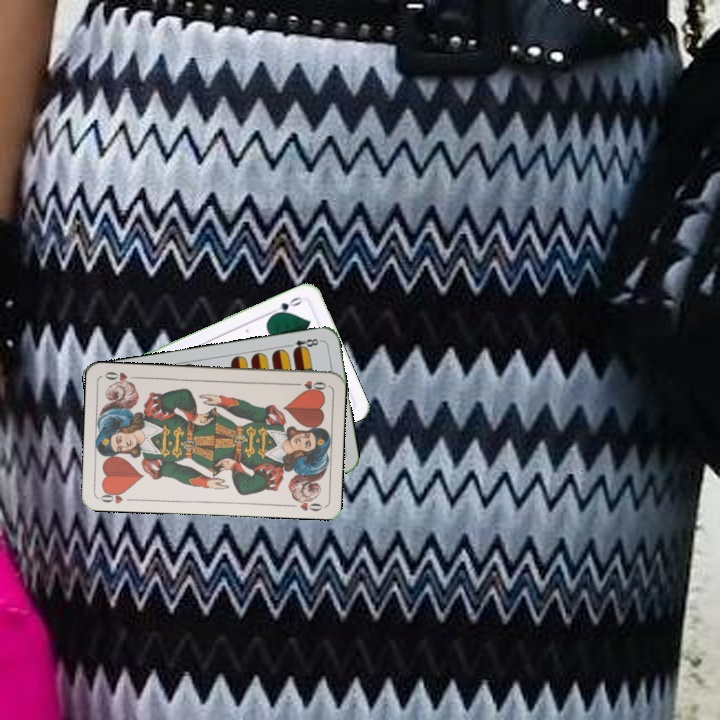E8: (283, 334, 324, 354)
GO: (267, 293, 307, 318)
HO: (96, 486, 136, 506), (289, 376, 329, 393)
